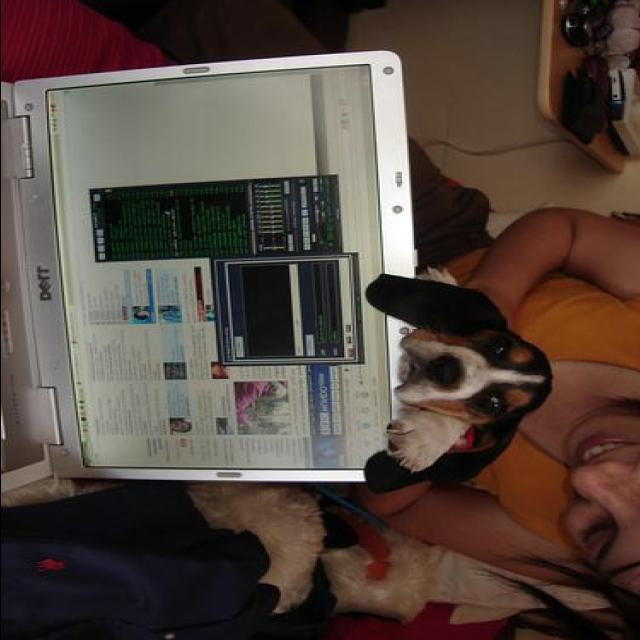basset: (358, 272, 558, 504)
